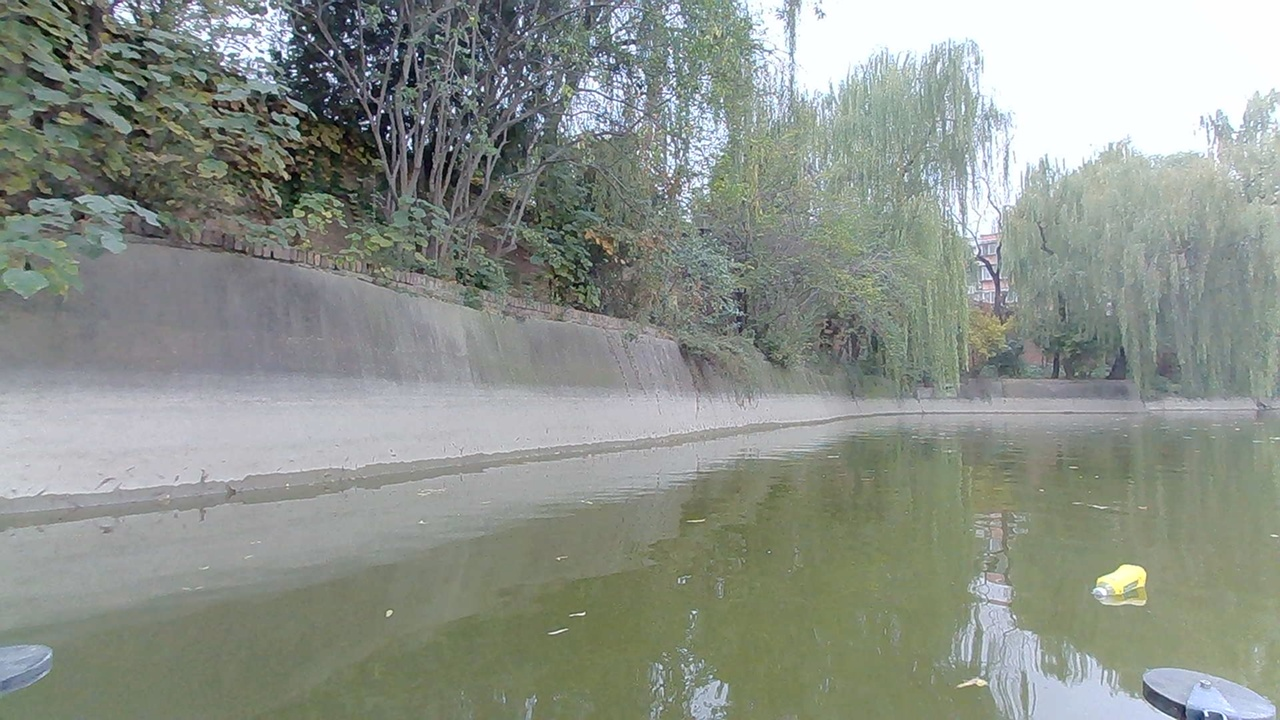bottle: (1086, 557, 1160, 610)
